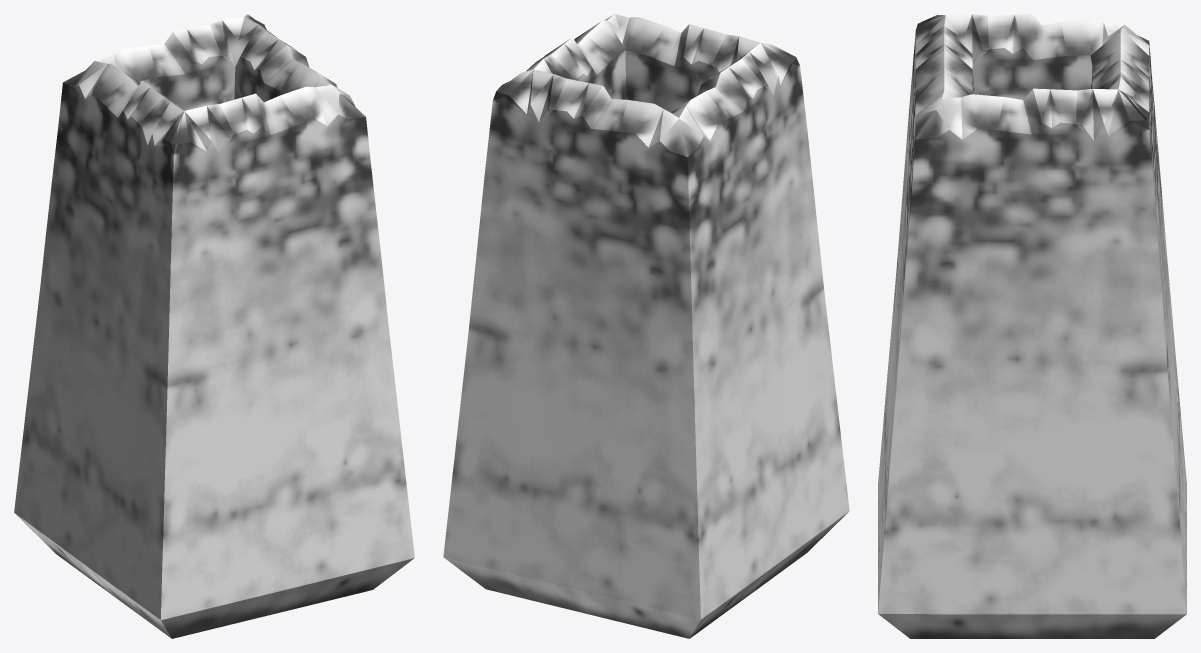
Rendered from Ruins_tower01.fbx.
3 views of the same model, side by side, from view 1: azimuth 30°, elevation 25°; view 2: azimuth 150°, elevation 25°; view 3: azimuth 270°, elevation 25° (orthographic). The views are drawn at different scales.
Visible parts, largest first — view 1: Ruins_tower01; view 2: Ruins_tower01; view 3: Ruins_tower01.
Part boxes in pixels (box(x1,y1,x2,y2)): Ruins_tower01: box(14, 14, 414, 638); Ruins_tower01: box(443, 14, 849, 638); Ruins_tower01: box(878, 14, 1186, 638).
Bounding box in the file's own units: 231 × 443 × 231.
